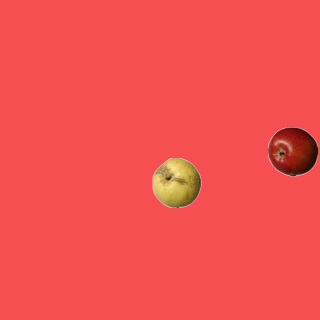Apple Braeburn: (267, 126, 317, 176)
Apple Golden 1: (151, 157, 201, 207)
